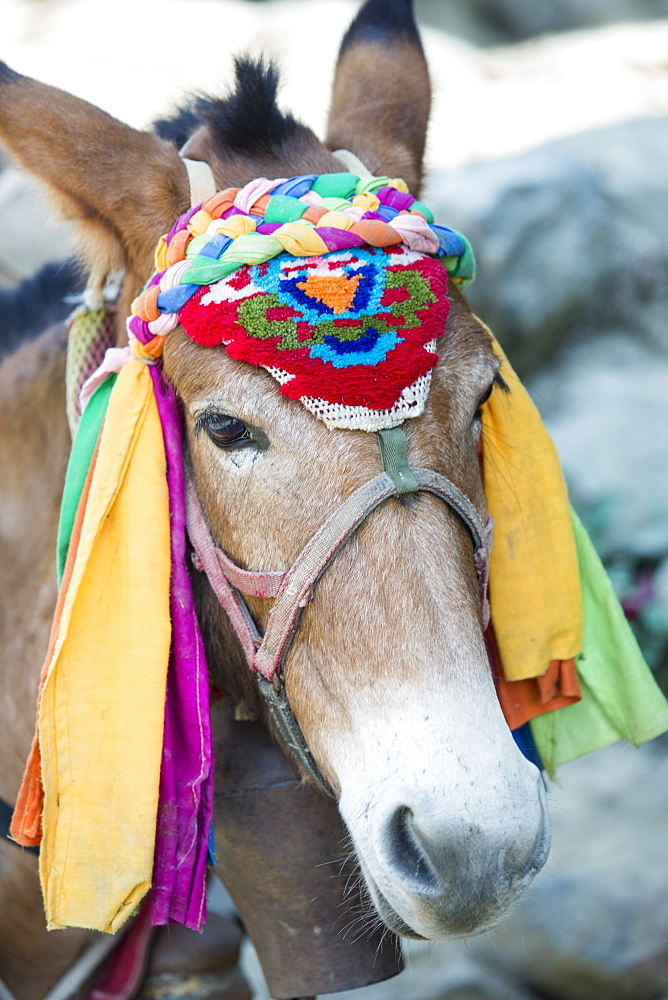equine: (1, 1, 656, 993)
